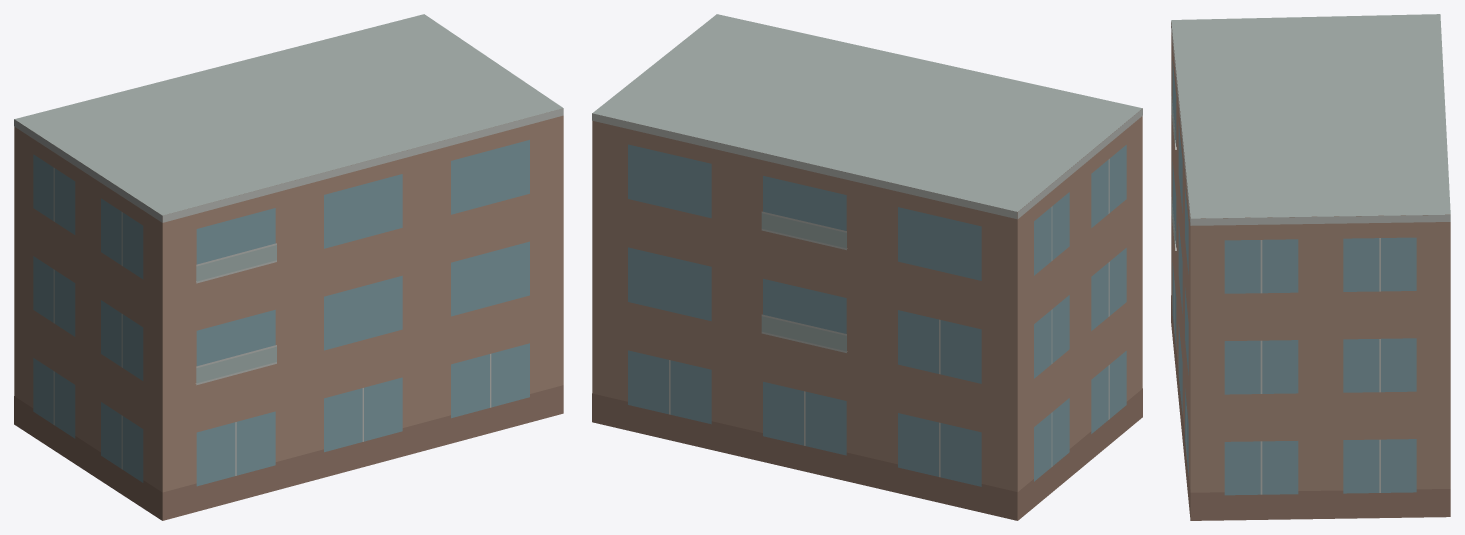
File: survey-upis-33004620.glb
3 views of the same model, side by side, from view 1: azimuth 30°, elevation 25°; view 2: azimuth 150°, elevation 25°; view 3: azimuth 270°, elevation 25° (orthographic). The views are drawn at different scales.
Parts seen in each view (by area): view 1: survey-upis-33004620.tmp; view 2: survey-upis-33004620.tmp; view 3: survey-upis-33004620.tmp.
Part boxes in pixels (x1=…): survey-upis-33004620.tmp: x1=14, y1=14, x2=563, y2=520; survey-upis-33004620.tmp: x1=592, y1=14, x2=1142, y2=520; survey-upis-33004620.tmp: x1=1171, y1=14, x2=1450, y2=520.
Bounding box in the file's own units: 14.82 × 10.2 × 8.56.
